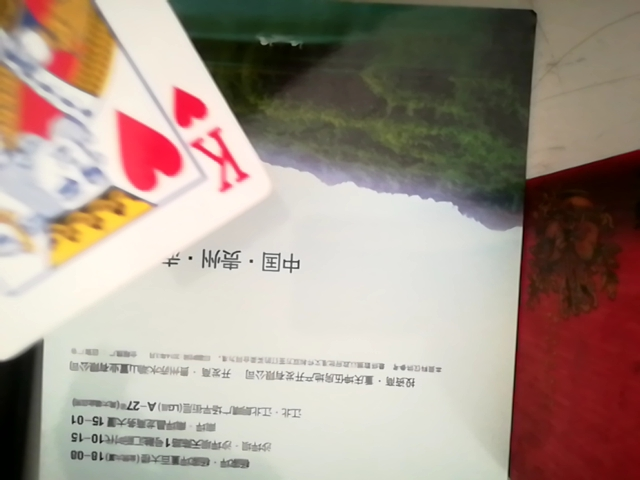hx k: (6, 0, 270, 349)
